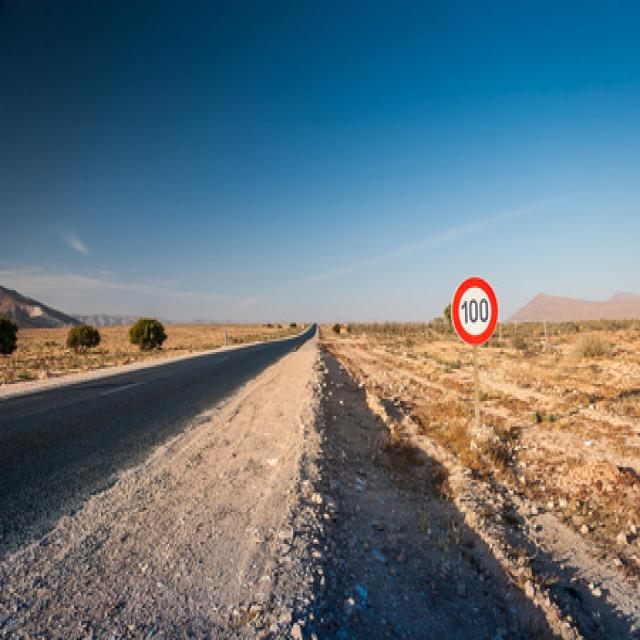speed limit 100: (449, 279, 499, 345)
